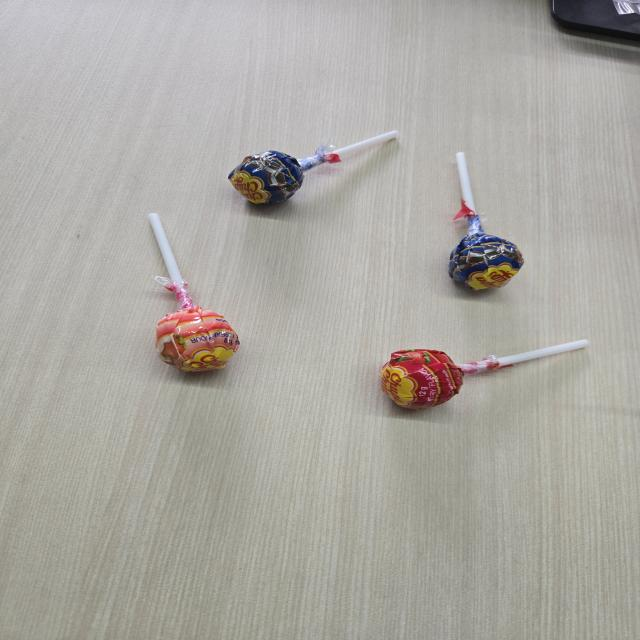lollipop: (376, 334, 589, 416), (139, 214, 242, 376), (227, 128, 398, 210), (449, 146, 526, 294)
